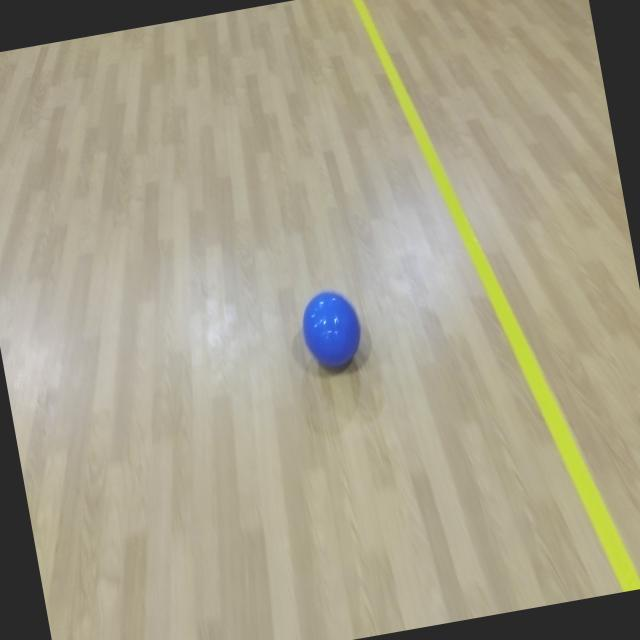blue_ball: (298, 286, 364, 372)
